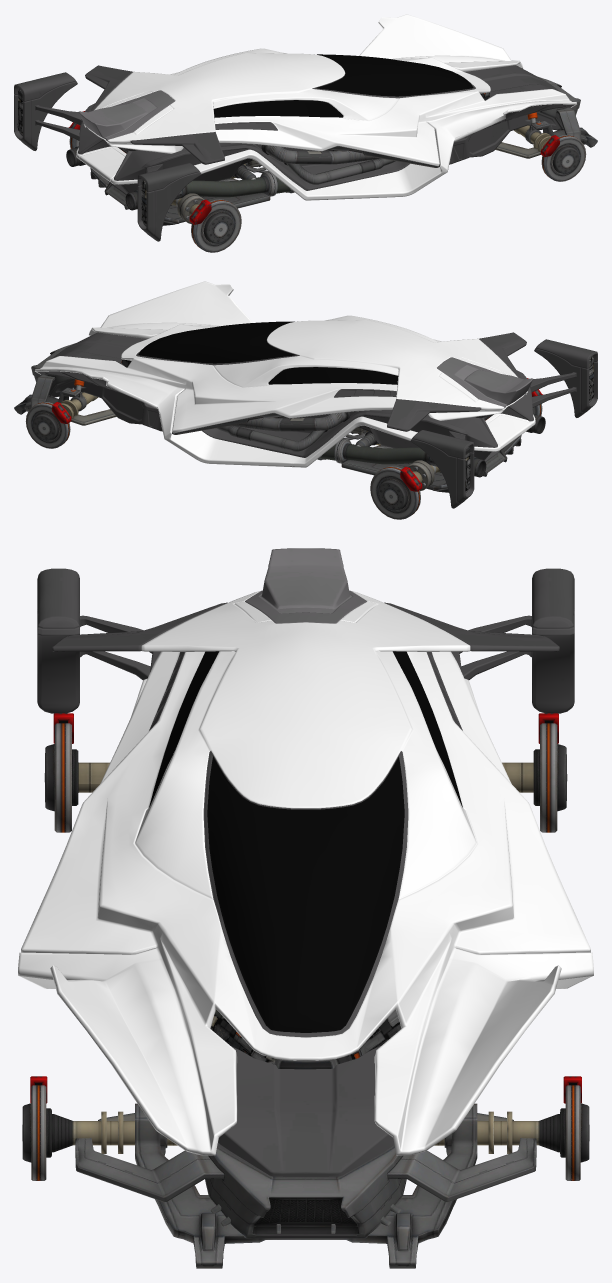
Rendered from mantis.glb.
3 views of the same model, one above another, from view 1: azimuth 30°, elevation 25°; view 2: azimuth 150°, elevation 25°; view 3: azimuth 270°, elevation 25° (orthographic). The views are drawn at different scales.
Parts seen in each view (by area): view 1: Mantis_Body, Mantis_Chassis; view 2: Mantis_Body, Mantis_Chassis; view 3: Mantis_Body, Mantis_Chassis.
Boxes of the visible parts, x1=… form: Mantis_Body: x1=14, y1=14, x2=577, y2=241; Mantis_Chassis: x1=17, y1=77, x2=597, y2=252; Mantis_Body: x1=35, y1=281, x2=597, y2=508; Mantis_Chassis: x1=14, y1=343, x2=594, y2=519; Mantis_Body: x1=18, y1=548, x2=593, y2=1176; Mantis_Chassis: x1=22, y1=713, x2=589, y2=1268.
Bounding box in the file's own units: 1.65 × 0.4318 × 0.8397.
2 materials, 2 textured.
